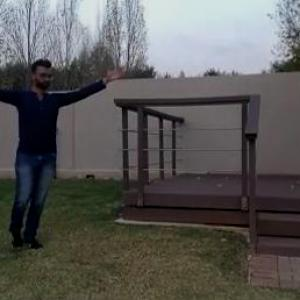takeoff: (0, 59, 133, 246)
